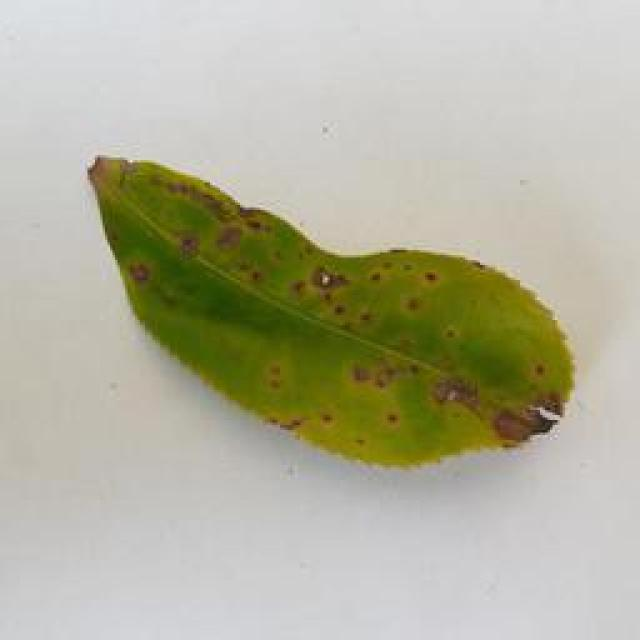Helopeltis: (66, 150, 580, 476)
